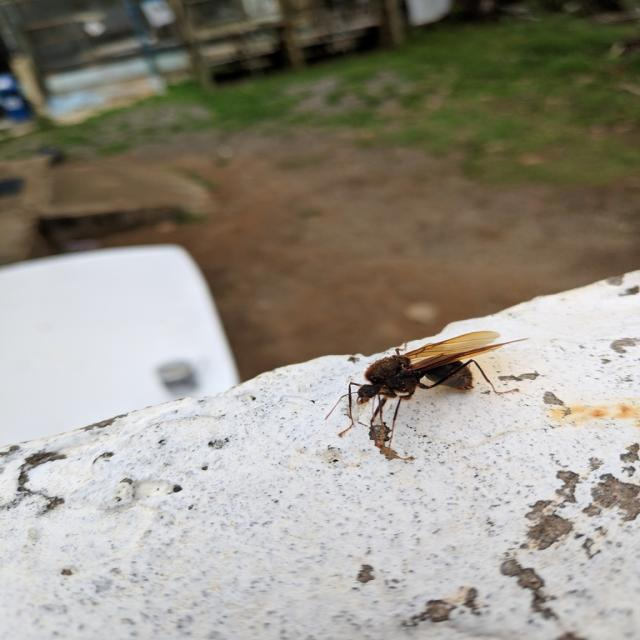Alive-Male-Alate: (324, 330, 530, 461)
